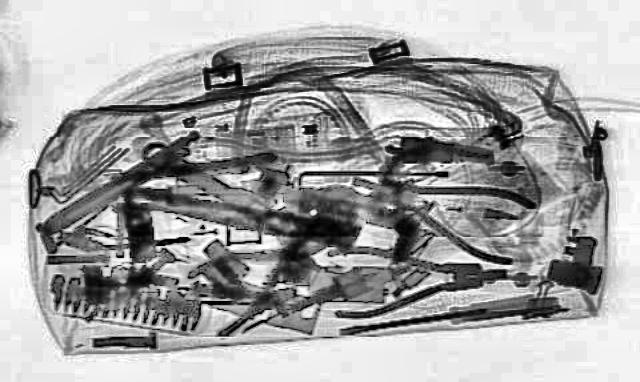Pliers: (323, 150, 567, 266), (137, 213, 359, 338), (319, 237, 511, 319)
Wrench: (117, 126, 381, 262)
